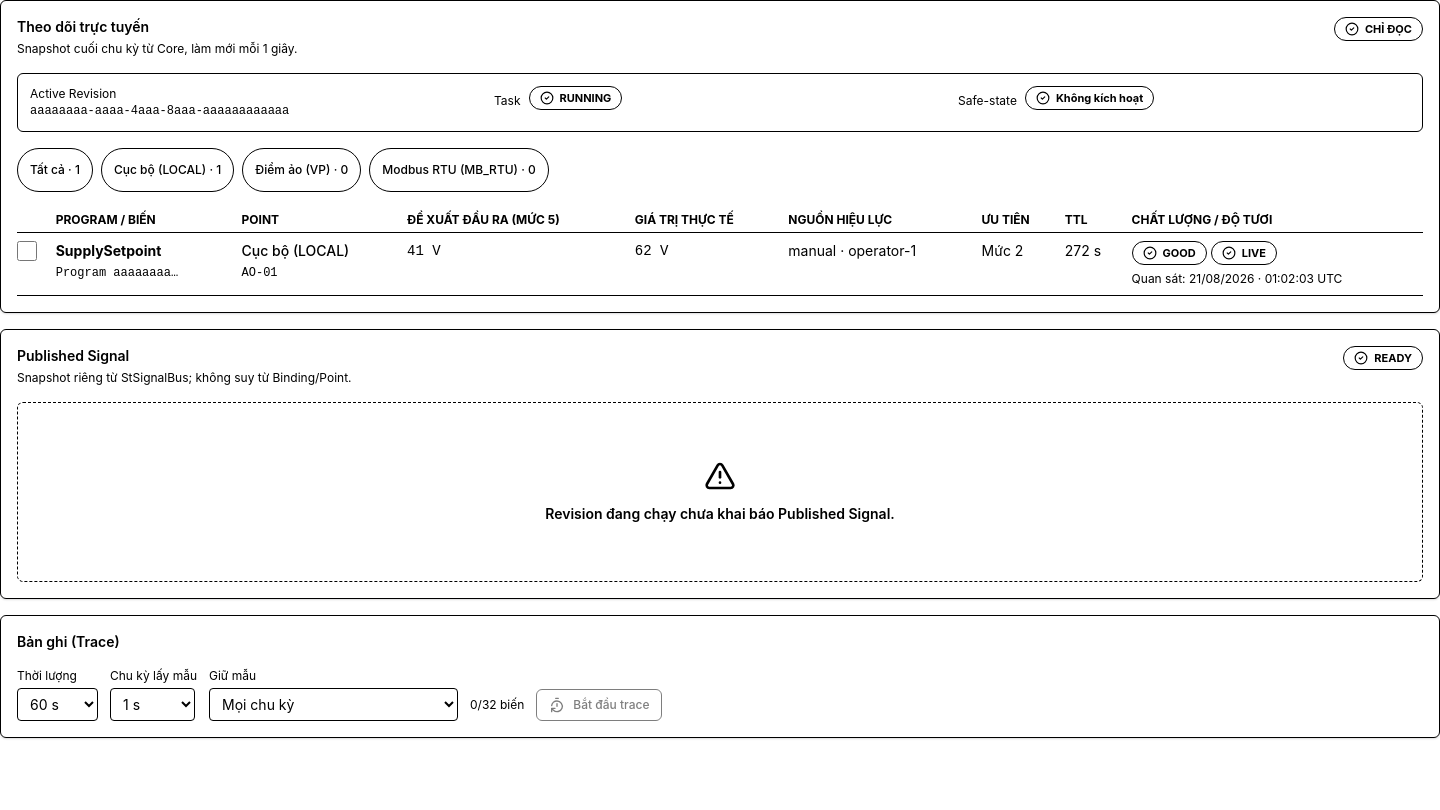
Test case: WatchTab — T59-504 › trace mặc định không gửi sampleMode
Click the checkbox named "Trace SupplySetpoint".
click(27, 251)  # box [17,241,37,261]
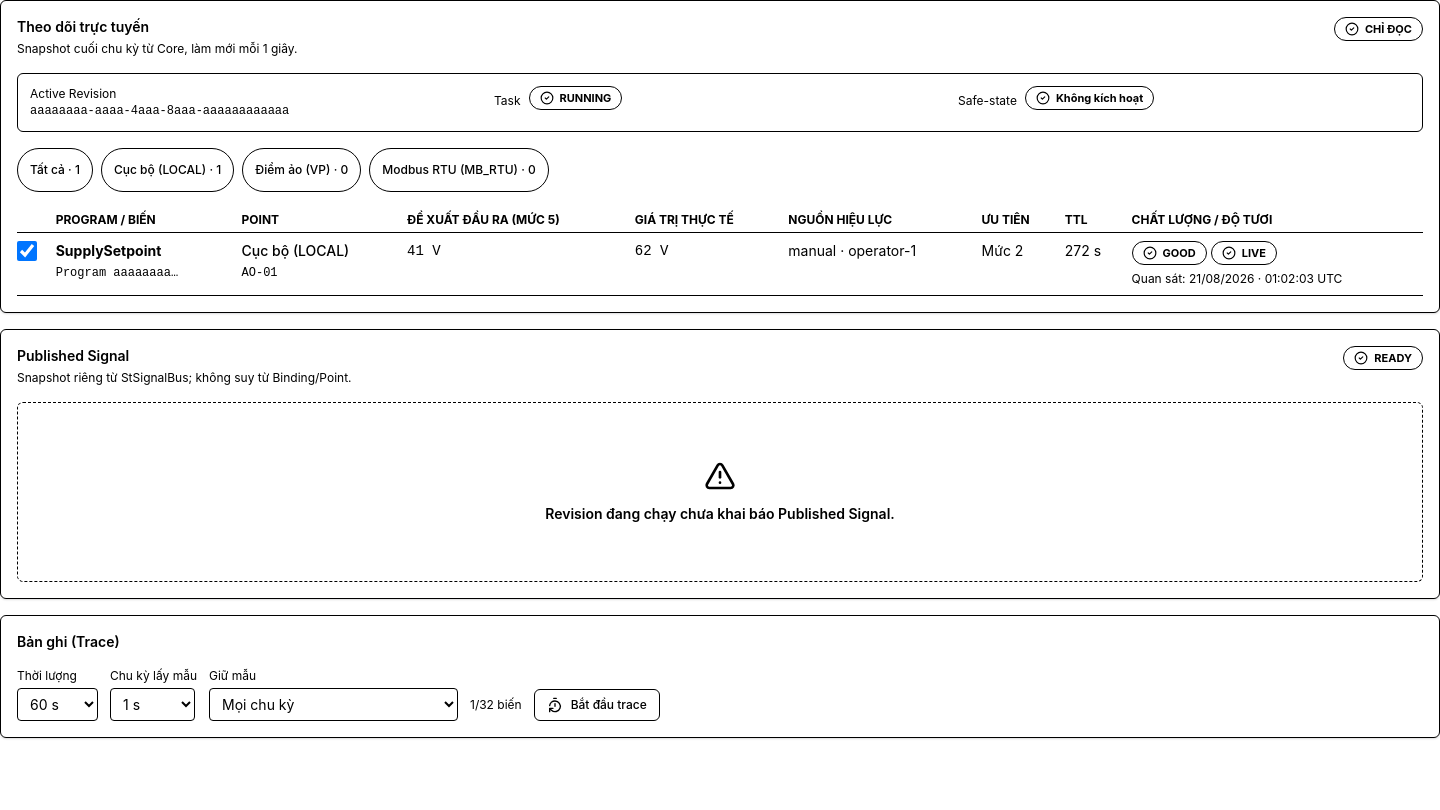
Click the button "Bắt đầu trace".
click(597, 705)  # box [534,689,660,721]
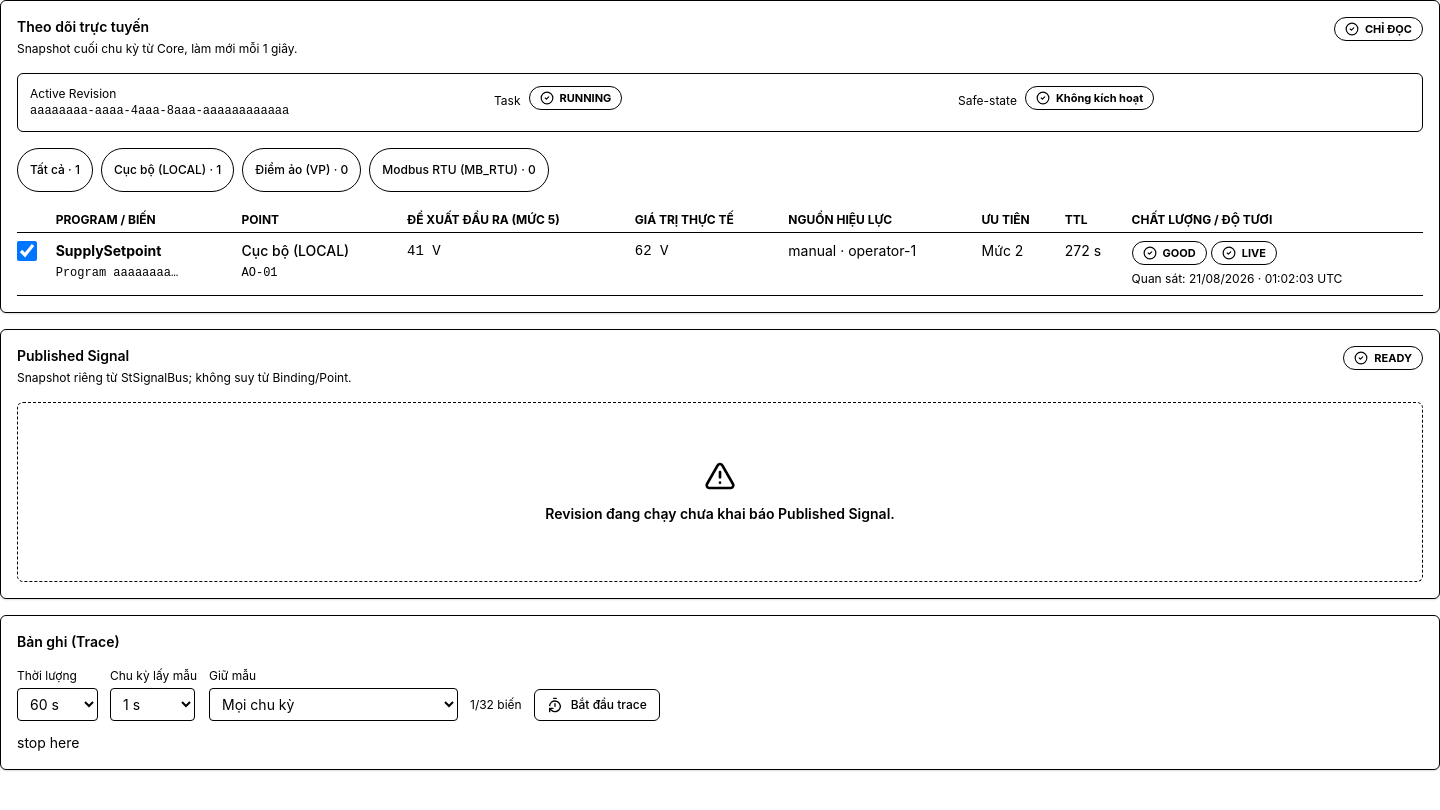
Now the text "stop here" is shown, box [17,734,79,751]
